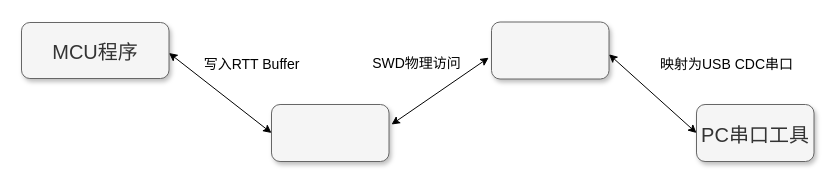
Some shapes in this 838 by 186 pixel diagram are drawn without their labels. Each missing label, with the centre of its shape:
"MicroLink" belongs at pixel 550 51.
"RTT控制块" belongs at pixel 330 134.
